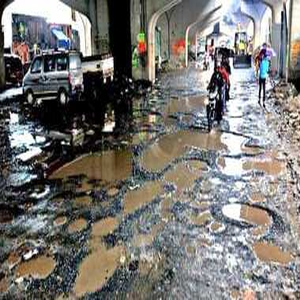pothole: (144, 123, 270, 165), (82, 226, 118, 300), (55, 153, 138, 182), (222, 202, 278, 232), (167, 161, 208, 193), (128, 182, 164, 211)
